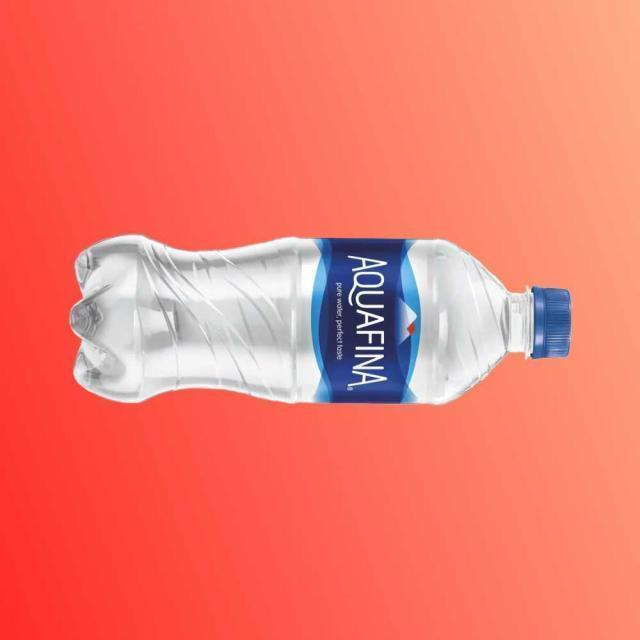plastic_bottle: (69, 235, 572, 402)
